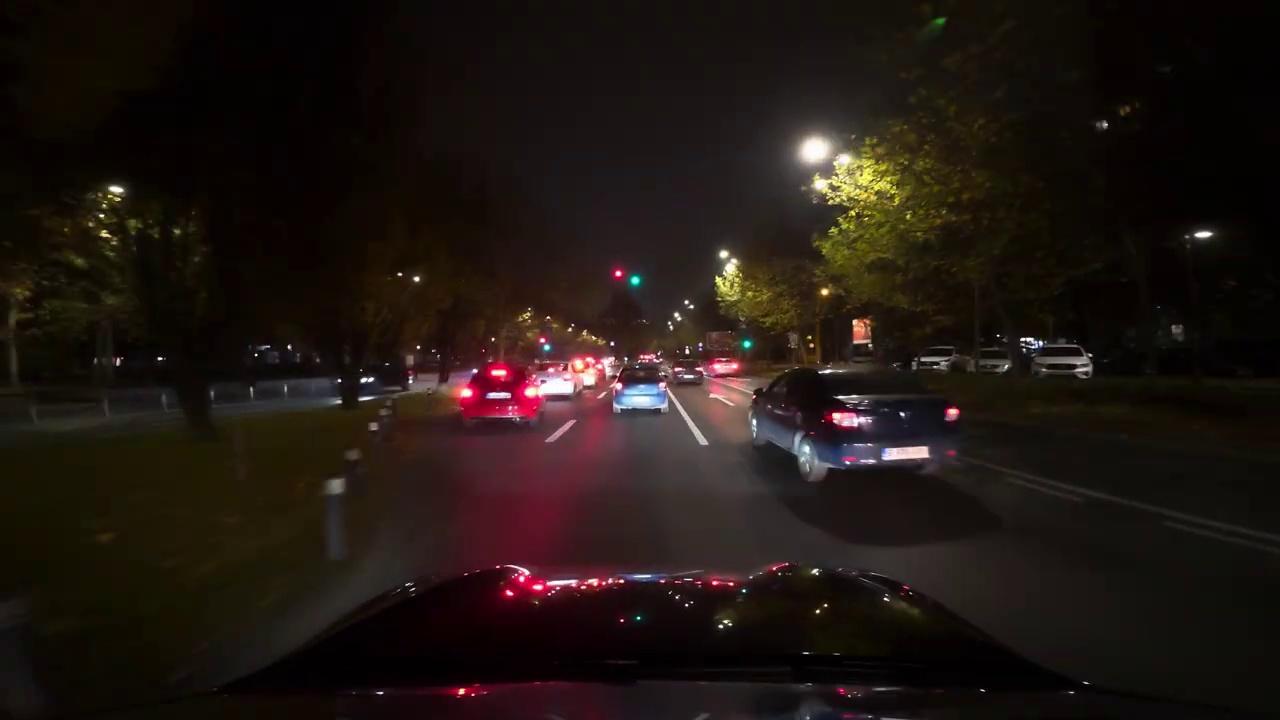acesa: (799, 135, 832, 165)
